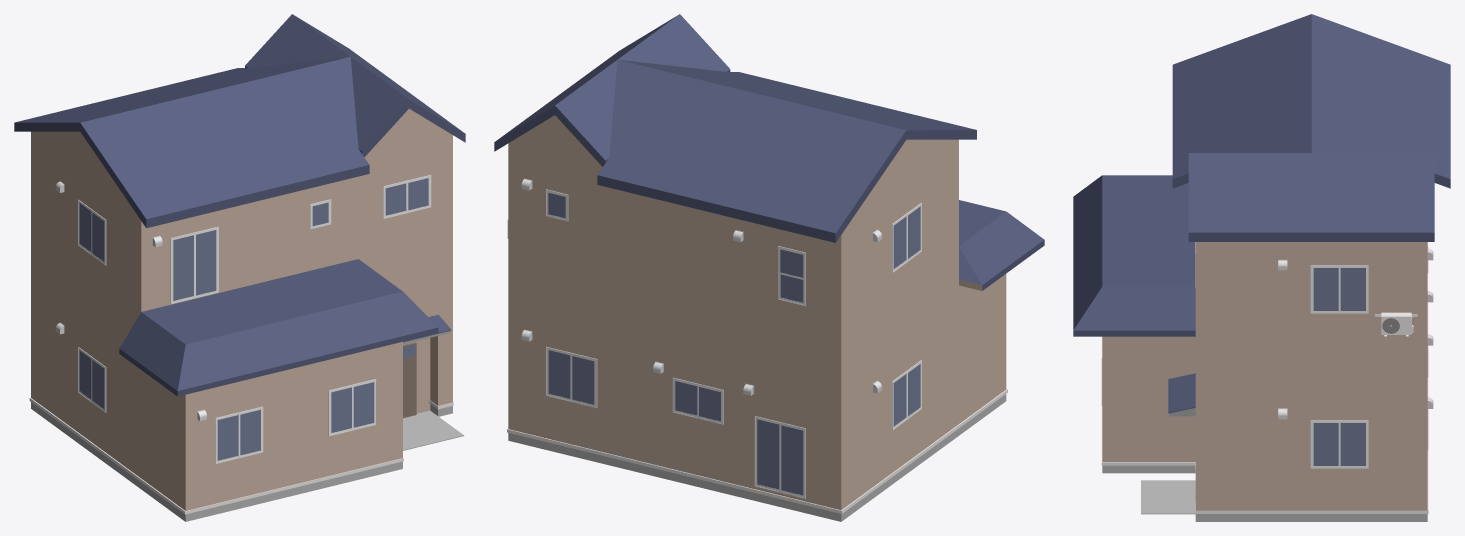
File: MobHouse51.fbx
3 views of the same model, side by side, from view 1: azimuth 30°, elevation 25°; view 2: azimuth 150°, elevation 25°; view 3: azimuth 270°, elevation 25° (orthographic). The views are drawn at different scales.
Parts seen in each view (by area): view 1: Flat_half_house02.010; view 2: Flat_half_house02.010; view 3: Flat_half_house02.010.
Boxes of the visible parts, left/top/right/bottom form: Flat_half_house02.010: left=14, top=14, right=465, bottom=521; Flat_half_house02.010: left=494, top=14, right=1044, bottom=521; Flat_half_house02.010: left=1073, top=14, right=1450, bottom=521.
Bounding box in the file's own units: 9.34 × 8.52 × 8.45.
